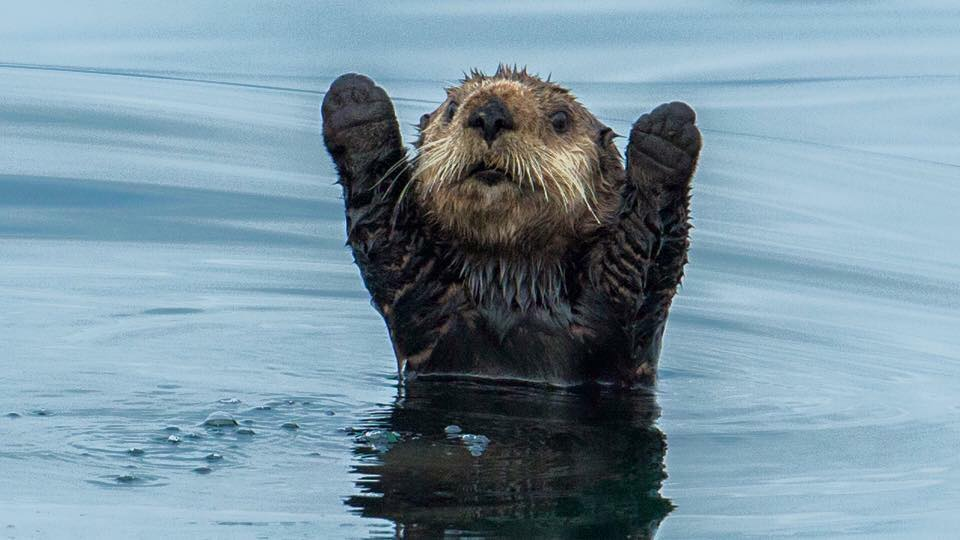otter: (297, 35, 750, 424)
